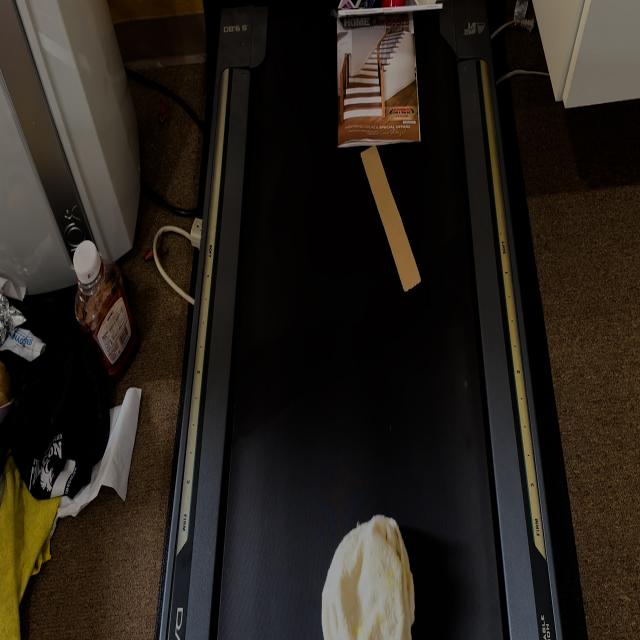Recycle: (335, 0, 425, 142), (354, 145, 425, 301)
Trash: (319, 506, 421, 640)
